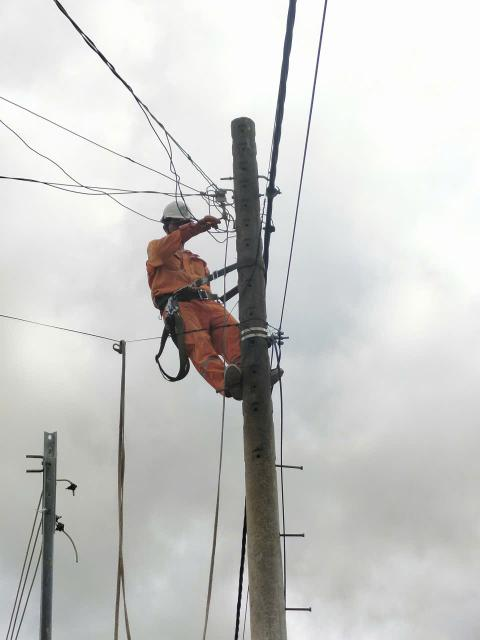gloves: (171, 215, 222, 238)
harness: (142, 269, 233, 309)
helmet: (156, 199, 198, 224)
shoes: (219, 360, 245, 402)
